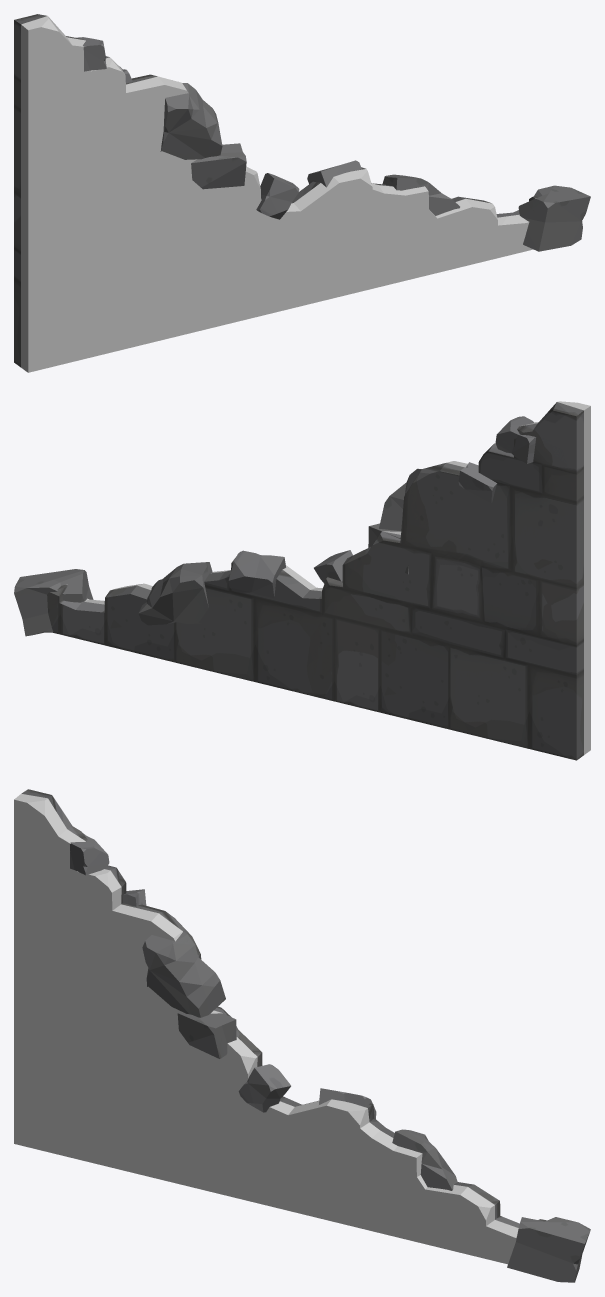
The model's file is SM_Bld_Wall_L_Damaged_Double_03_Alt_01.fbx.
3 views of the same model, one above another, from view 1: azimuth 30°, elevation 25°; view 2: azimuth 150°, elevation 25°; view 3: azimuth 330°, elevation 25° (orthographic).
Visible parts, largest first — view 1: SM_Bld_Wall_L_Damaged_Double_03_Alt_01; view 2: SM_Bld_Wall_L_Damaged_Double_03_Alt_01; view 3: SM_Bld_Wall_L_Damaged_Double_03_Alt_01.
Part boxes in pixels (<box>): SM_Bld_Wall_L_Damaged_Double_03_Alt_01: <box>14,14,590,372</box>; SM_Bld_Wall_L_Damaged_Double_03_Alt_01: <box>14,401,590,760</box>; SM_Bld_Wall_L_Damaged_Double_03_Alt_01: <box>14,789,590,1282</box>.
Bounding box in the file's own units: 1036 × 618 × 102.
